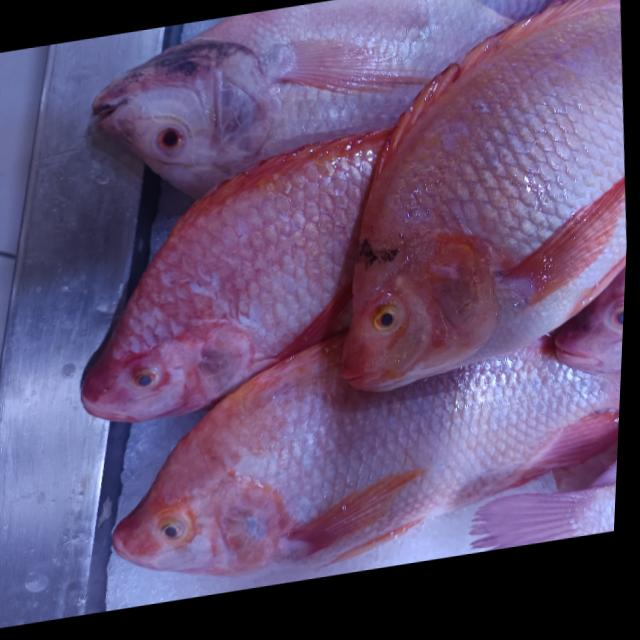Tilapia: (85, 296, 624, 609), (293, 0, 640, 395), (59, 121, 417, 436), (76, 0, 525, 214)
